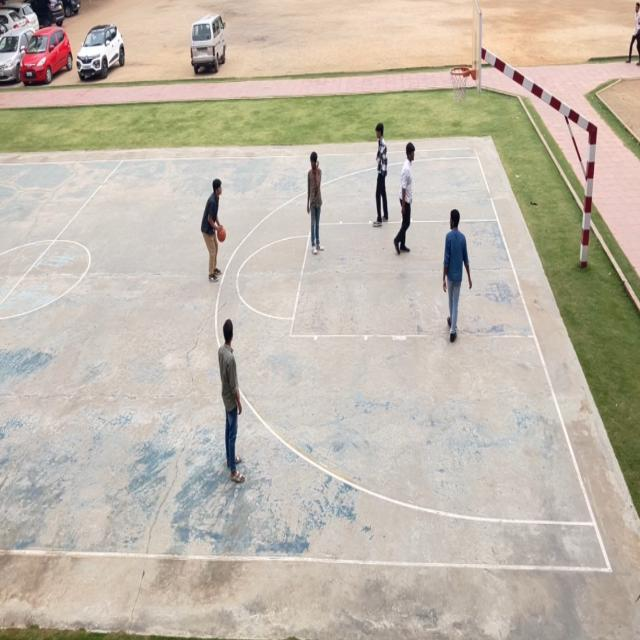basketball: (216, 224, 228, 244)
hoop: (449, 64, 471, 106)
